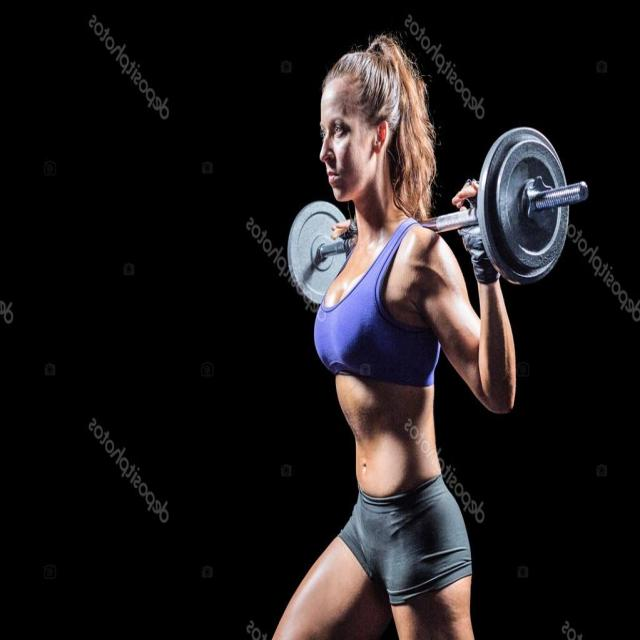barbell_plate_side: (287, 125, 363, 306), (513, 125, 589, 306)
